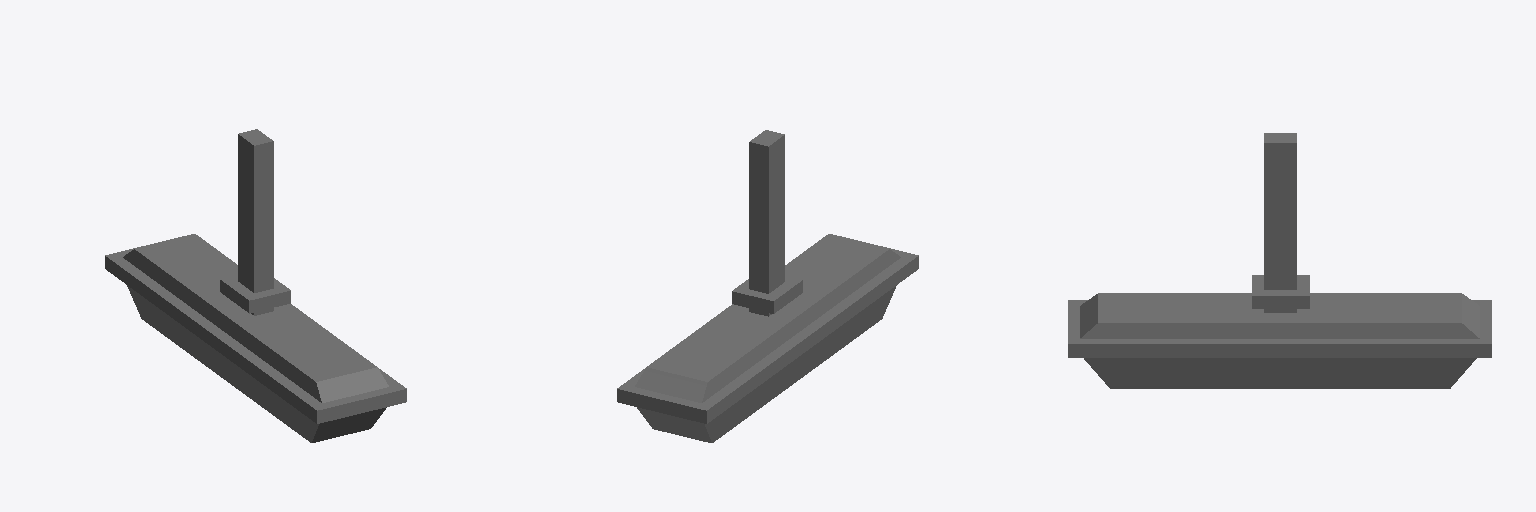
The model's file is lampara.obj.
3 views of the same model, side by side, from view 1: azimuth 30°, elevation 25°; view 2: azimuth 150°, elevation 25°; view 3: azimuth 270°, elevation 25° (orthographic).
Visible parts, largest first — view 1: pCube10 Lampara CARRITO; view 2: pCube10 Lampara CARRITO; view 3: pCube10 Lampara CARRITO.
Part boxes in pixels (left/top/right/bottom): pCube10 Lampara CARRITO: left=105, top=129, right=406, bottom=442; pCube10 Lampara CARRITO: left=617, top=130, right=918, bottom=442; pCube10 Lampara CARRITO: left=1068, top=133, right=1491, bottom=388.
Size of the model in its own units: 0.6889 by 1.73 by 2.82.